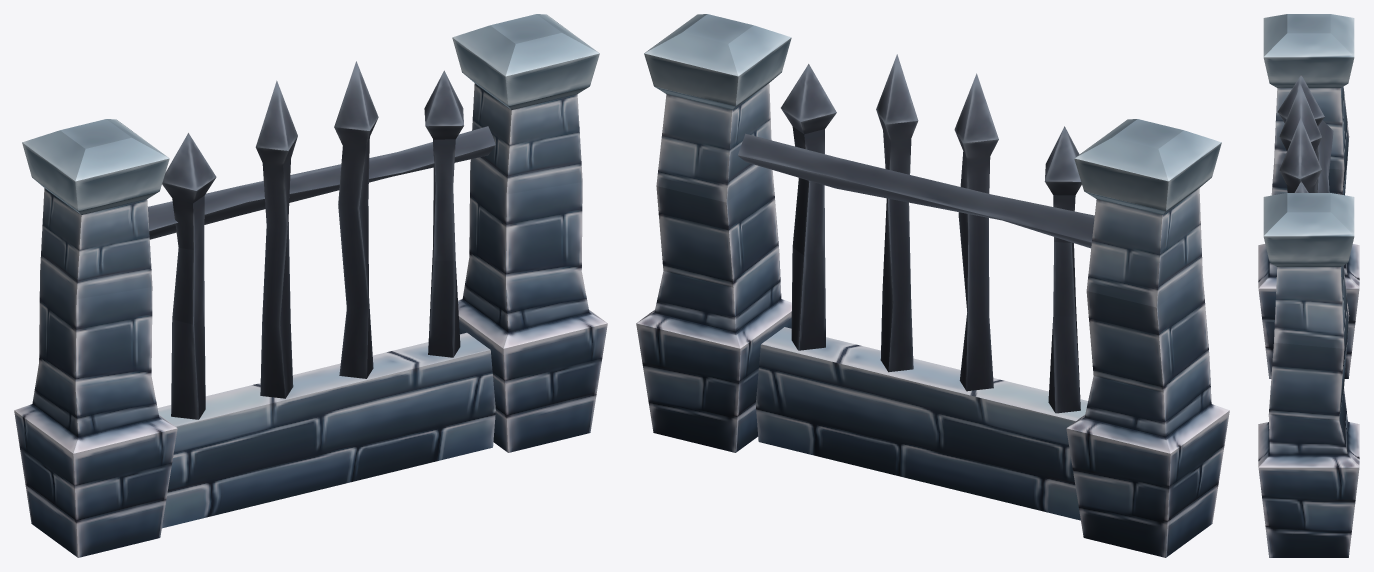
File: Vampire_Village_Props_11.FBX
3 views of the same model, side by side, from view 1: azimuth 30°, elevation 25°; view 2: azimuth 150°, elevation 25°; view 3: azimuth 270°, elevation 25° (orthographic). The views are drawn at different scales.
Visible parts, largest first — view 1: Vampire_Village_Props_11; view 2: Vampire_Village_Props_11; view 3: Vampire_Village_Props_11.
Part boxes in pixels (x1=…): Vampire_Village_Props_11: x1=14, y1=14, x2=607, y2=557; Vampire_Village_Props_11: x1=636, y1=14, x2=1229, y2=557; Vampire_Village_Props_11: x1=1258, y1=14, x2=1359, y2=557.
Bounding box in the file's own units: 255 × 188 × 48.96.
